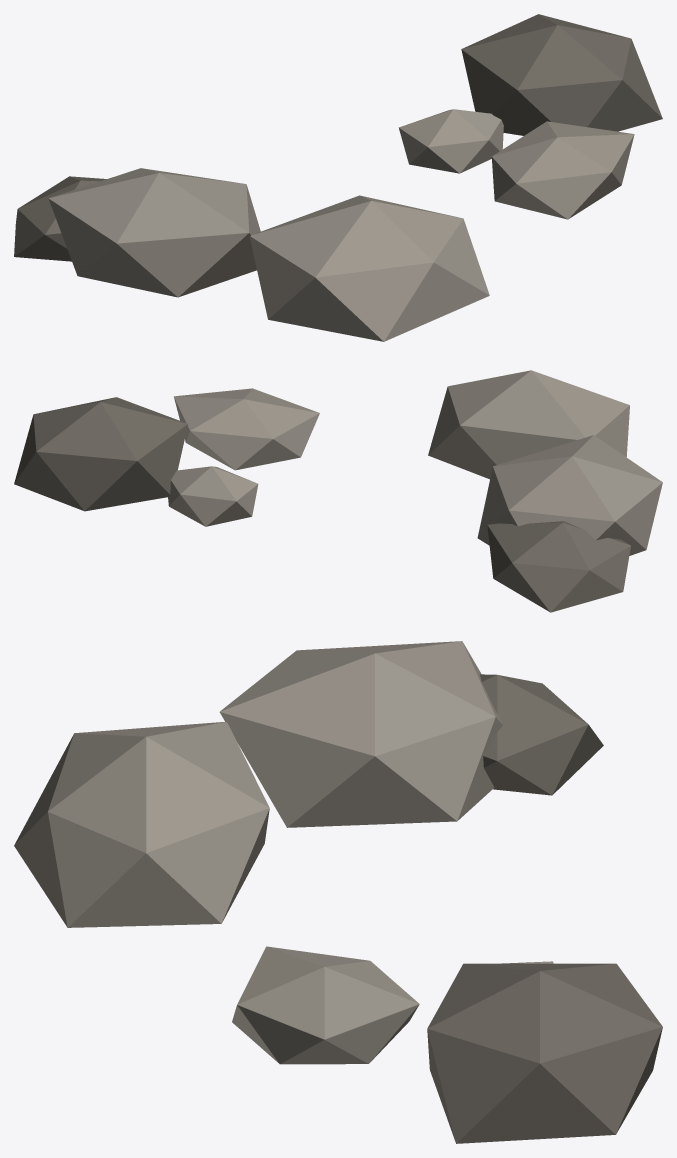
Rendered from HS_LP_Ground_Pebbles_02.fbx.
The picture shows the model from 3 angles, top to bottom: view 1: azimuth 30°, elevation 25°; view 2: azimuth 150°, elevation 25°; view 3: azimuth 270°, elevation 25°; orthographic projection. The views are drawn at different scales.
Visible parts, largest first — view 1: HS_LP_Ground_Pebbles_02; view 2: HS_LP_Ground_Pebbles_02; view 3: HS_LP_Ground_Pebbles_02.
Part boxes in pixels (bbox=[...]): HS_LP_Ground_Pebbles_02: bbox=[14, 14, 662, 341]; HS_LP_Ground_Pebbles_02: bbox=[14, 370, 662, 612]; HS_LP_Ground_Pebbles_02: bbox=[14, 641, 662, 1143].
Bounding box in the file's own units: 58.08 × 9.56 × 37.61.
